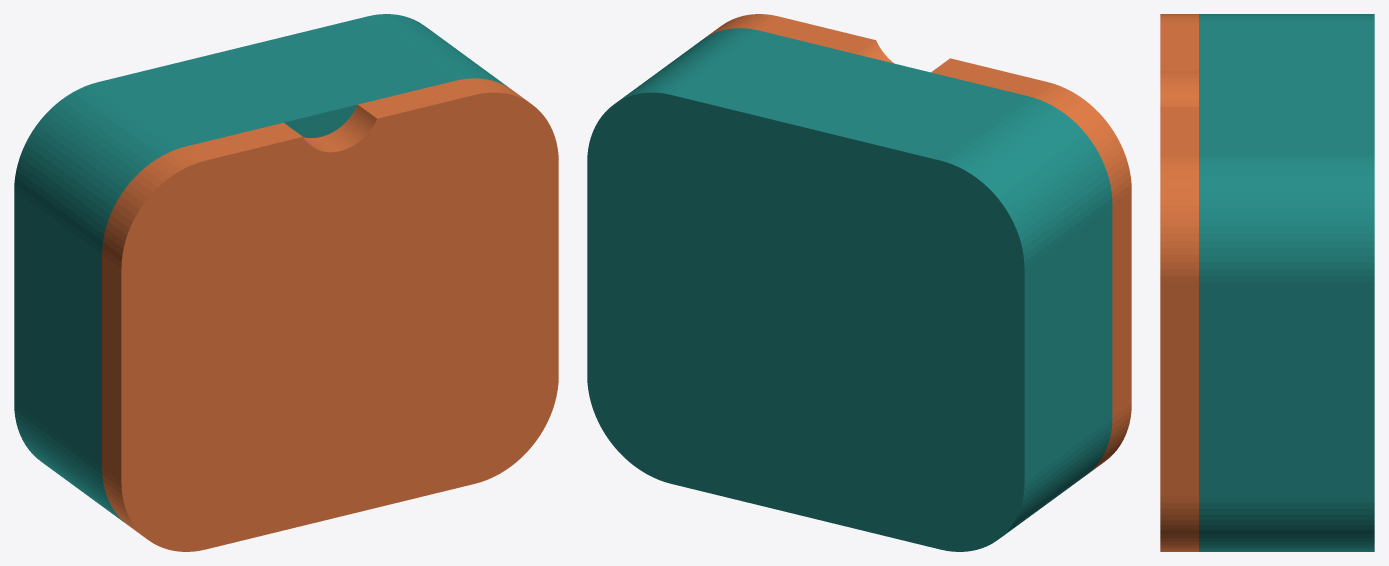
File: xiao-bench-case.glb
3 views of the same model, side by side, from view 1: azimuth 30°, elevation 25°; view 2: azimuth 150°, elevation 25°; view 3: azimuth 270°, elevation 25° (orthographic).
Parts seen in each view (by area): view 1: solid_001, solid_000; view 2: solid_000, solid_001; view 3: solid_000, solid_001.
Part boxes in pixels (x1,y1,x2,y2): solid_001: (102,78,558,551); solid_000: (14,14,508,523); solid_000: (587,28,1112,551); solid_001: (704,14,1131,473); solid_000: (1199,14,1374,551); solid_001: (1160,14,1198,551).
Bounding box in the file's own units: 31.3 × 26.6 × 13.3.
